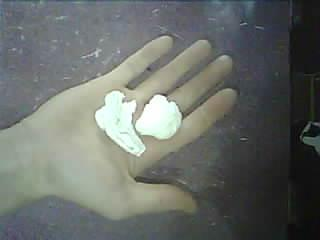paper: (96, 91, 144, 154), (135, 94, 182, 139)
